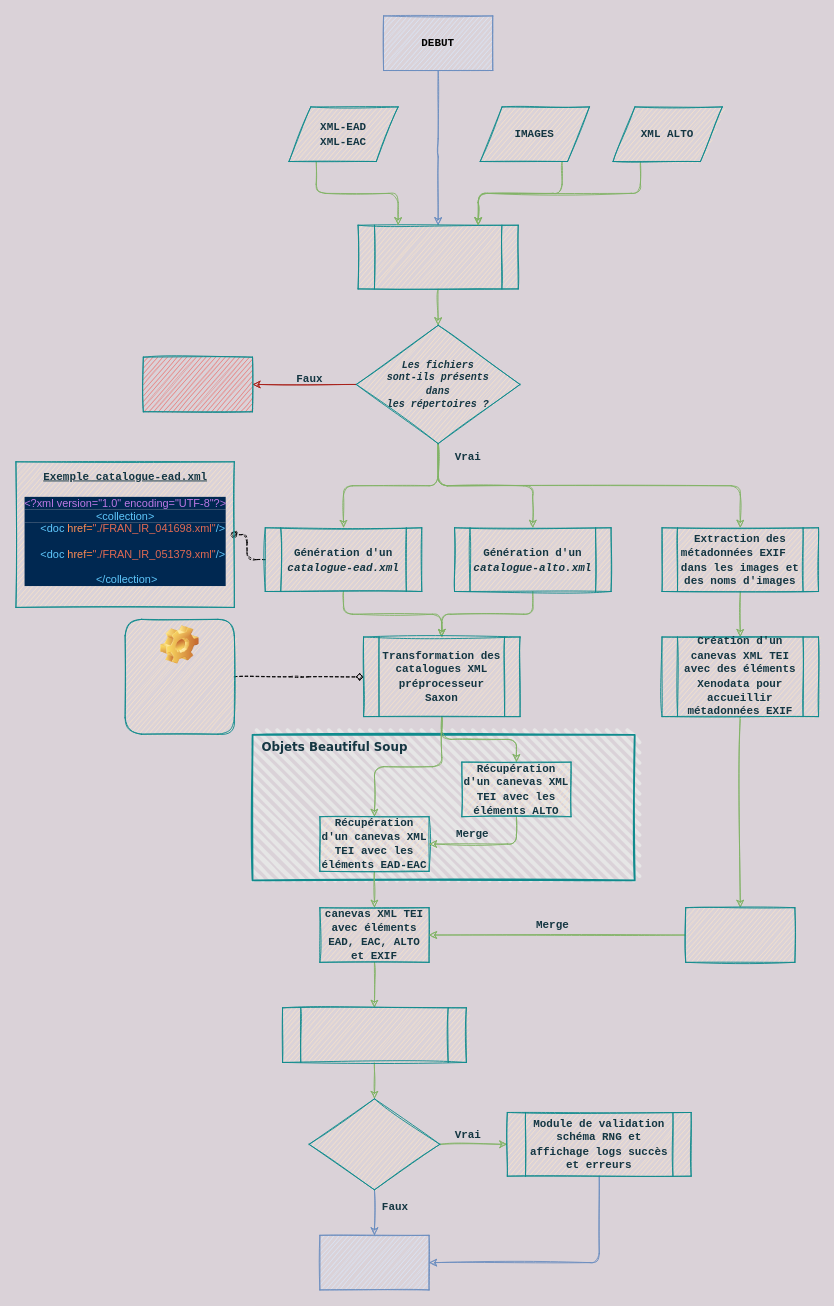
Some shapes in this 834 by 1306 pixel diagram are drawn without their labels. The shapes that lost their labels are listed below. From the top down, each one's centre as x and y in pixels, then its label:
At pixel 437 256: "Récupération des fichiers dans le répertoire".
At pixel 197 384: "Fin du programme et log d'erreur".
At pixel 179 676: "Scénarios de transformations xslt (EAD,EAC-> TEI / ALTO -> TEI)".
At pixel 740 934: "Récupération canevas XML TEI avec élément EXIF".
At pixel 374 1034: "Formatage chaîne de caractères Unicode et écriture du fichier XML TEI".
At pixel 374 1144: "L'utilisateur souhaite t-il valider son fichier TEI ?".
At pixel 374 1262: "FIN".
